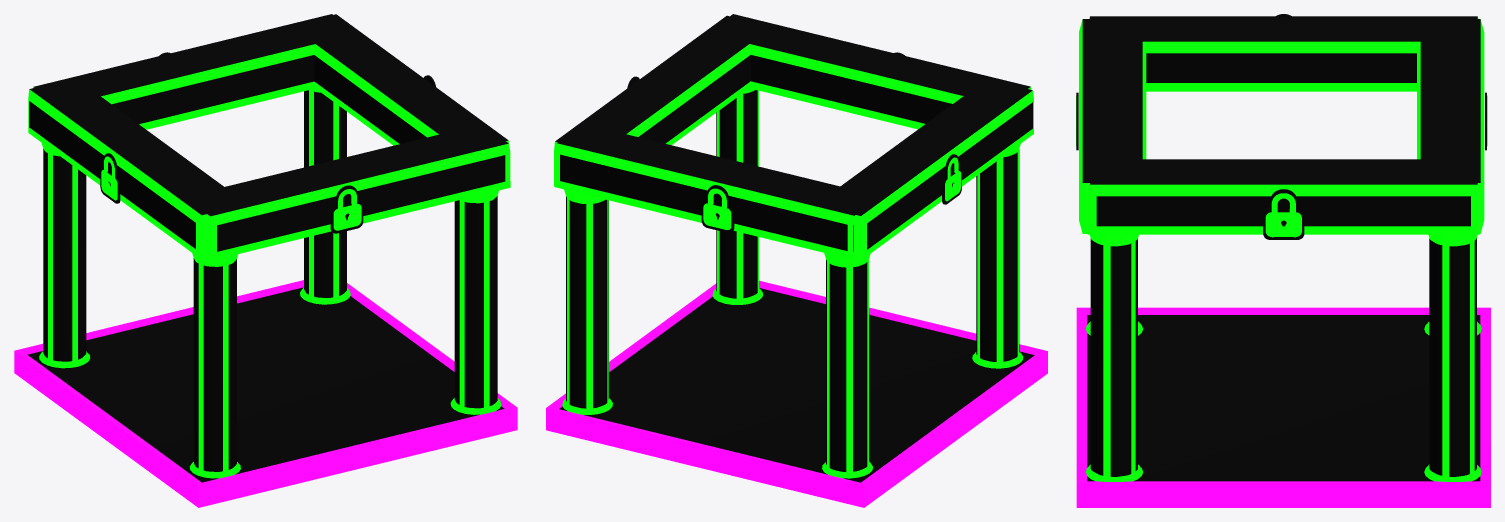
Rendered from Portao_Chave_Aberto_R00.fbx.
3 views of the same model, side by side, from view 1: azimuth 30°, elevation 25°; view 2: azimuth 150°, elevation 25°; view 3: azimuth 270°, elevation 25° (orthographic). The views are drawn at different scales.
Visible parts, largest first — view 1: pCube1, Batente1, Batente, Batente3, Batente4, pPlane10, pPlane9; view 2: pCube1, Batente1, Batente, Batente4, Batente3, pPlane11, pPlane9; view 3: pCube1, Batente, Batente1, Batente3, Batente4, pPlane8.
Part boxes in pixels (x1=…): pCube1: x1=14, y1=280, x2=517, y2=507; Batente1: x1=28, y1=78, x2=246, y2=478; Batente: x1=291, y1=14, x2=508, y2=414; Batente3: x1=184, y1=124, x2=510, y2=261; Batente4: x1=33, y1=14, x2=357, y2=129; pPlane10: x1=330, y1=185, x2=363, y2=233; pPlane9: x1=100, y1=153, x2=120, y2=203; pCube1: x1=546, y1=280, x2=1047, y2=507; Batente1: x1=815, y1=79, x2=1033, y2=478; Batente: x1=554, y1=15, x2=772, y2=414; Batente4: x1=555, y1=123, x2=879, y2=260; Batente3: x1=710, y1=14, x2=1031, y2=129; pPlane11: x1=701, y1=185, x2=734, y2=232; pPlane9: x1=942, y1=154, x2=961, y2=204; pCube1: x1=1076, y1=307, x2=1490, y2=507; Batente: x1=1086, y1=159, x2=1481, y2=481; Batente1: x1=1086, y1=16, x2=1481, y2=335; Batente3: x1=1079, y1=19, x2=1146, y2=233; Batente4: x1=1417, y1=19, x2=1484, y2=233; pPlane8: x1=1263, y1=189, x2=1304, y2=239.
Bounding box in the file's own units: 1.05 × 0.886 × 1.04.
